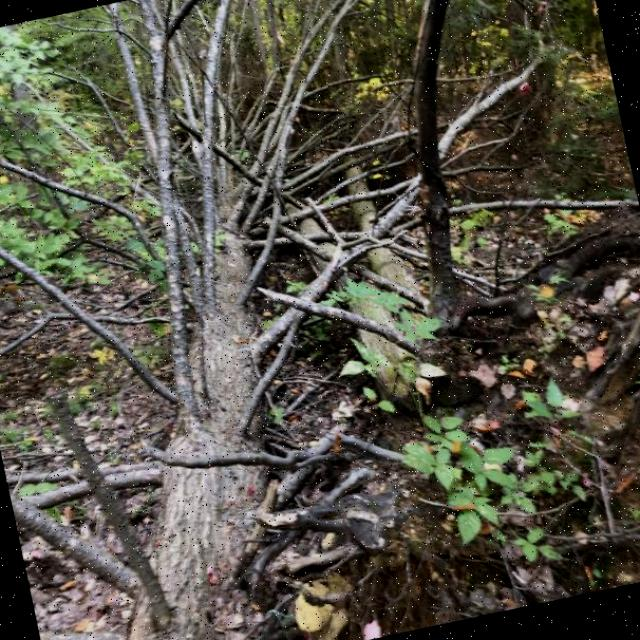fallen_object: (2, 106, 393, 640)
